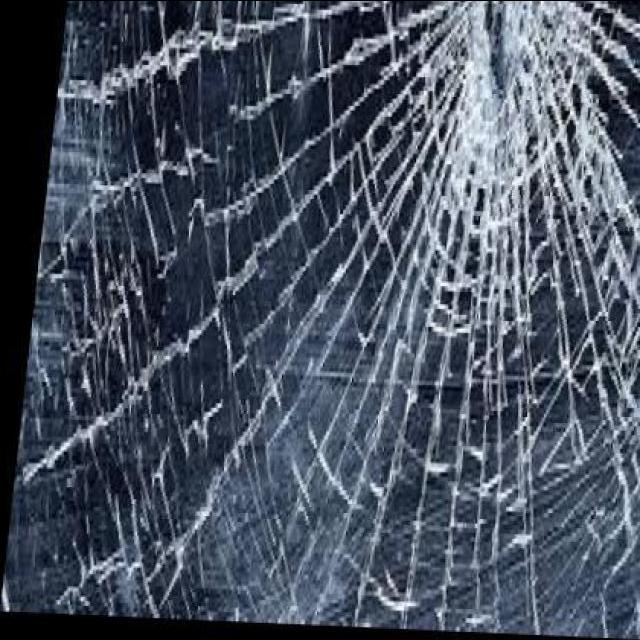soiled: (8, 3, 630, 639)
